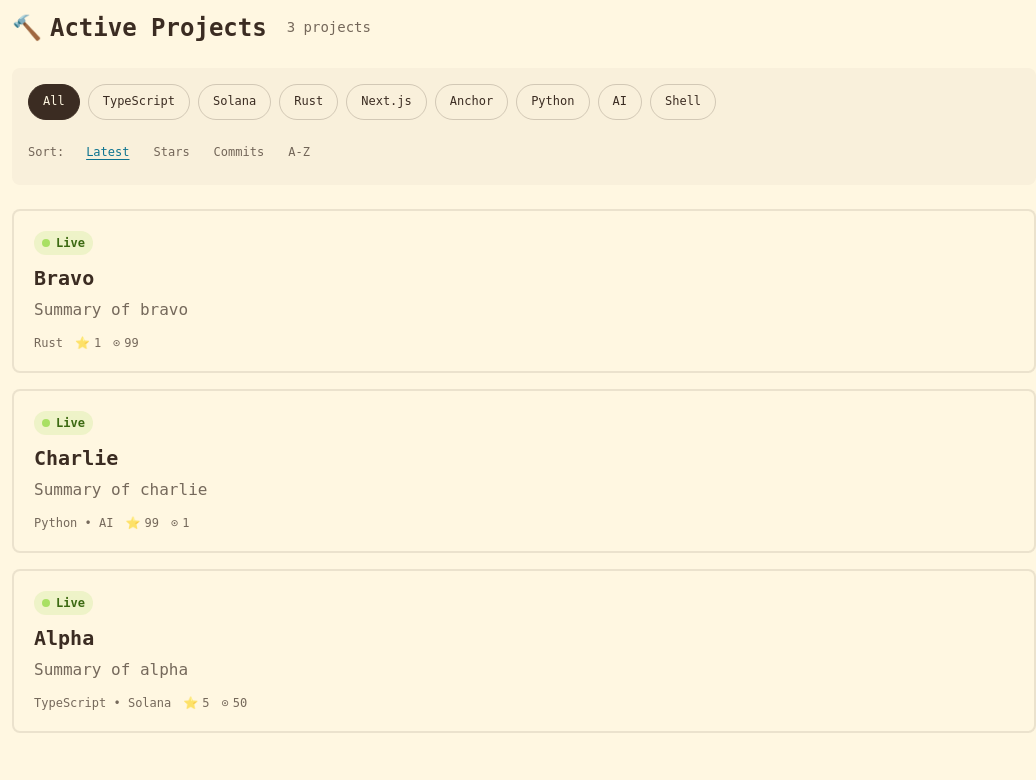
Scenario: FilterSort island › counter pluralization › renders "1 project" (singular) when exactly one is visible
Click the button "Rust" at (309, 102), box [279, 84, 338, 120]
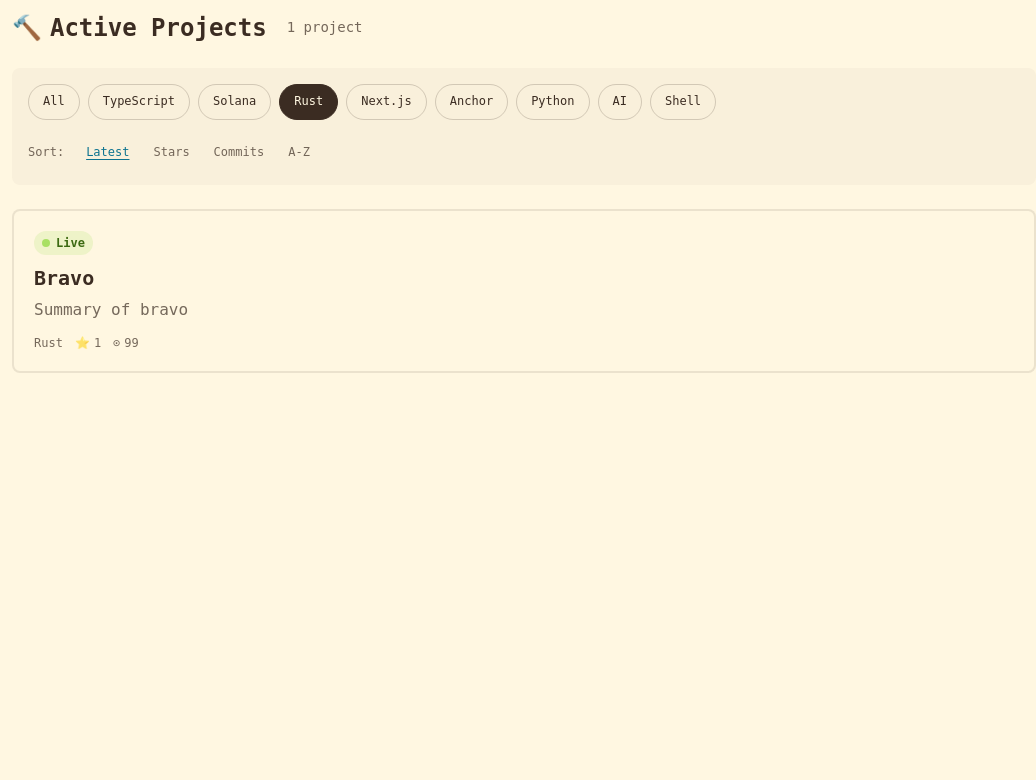
Expected: the text with class "work-counter" reads "1 project", [287, 19, 363, 35]
